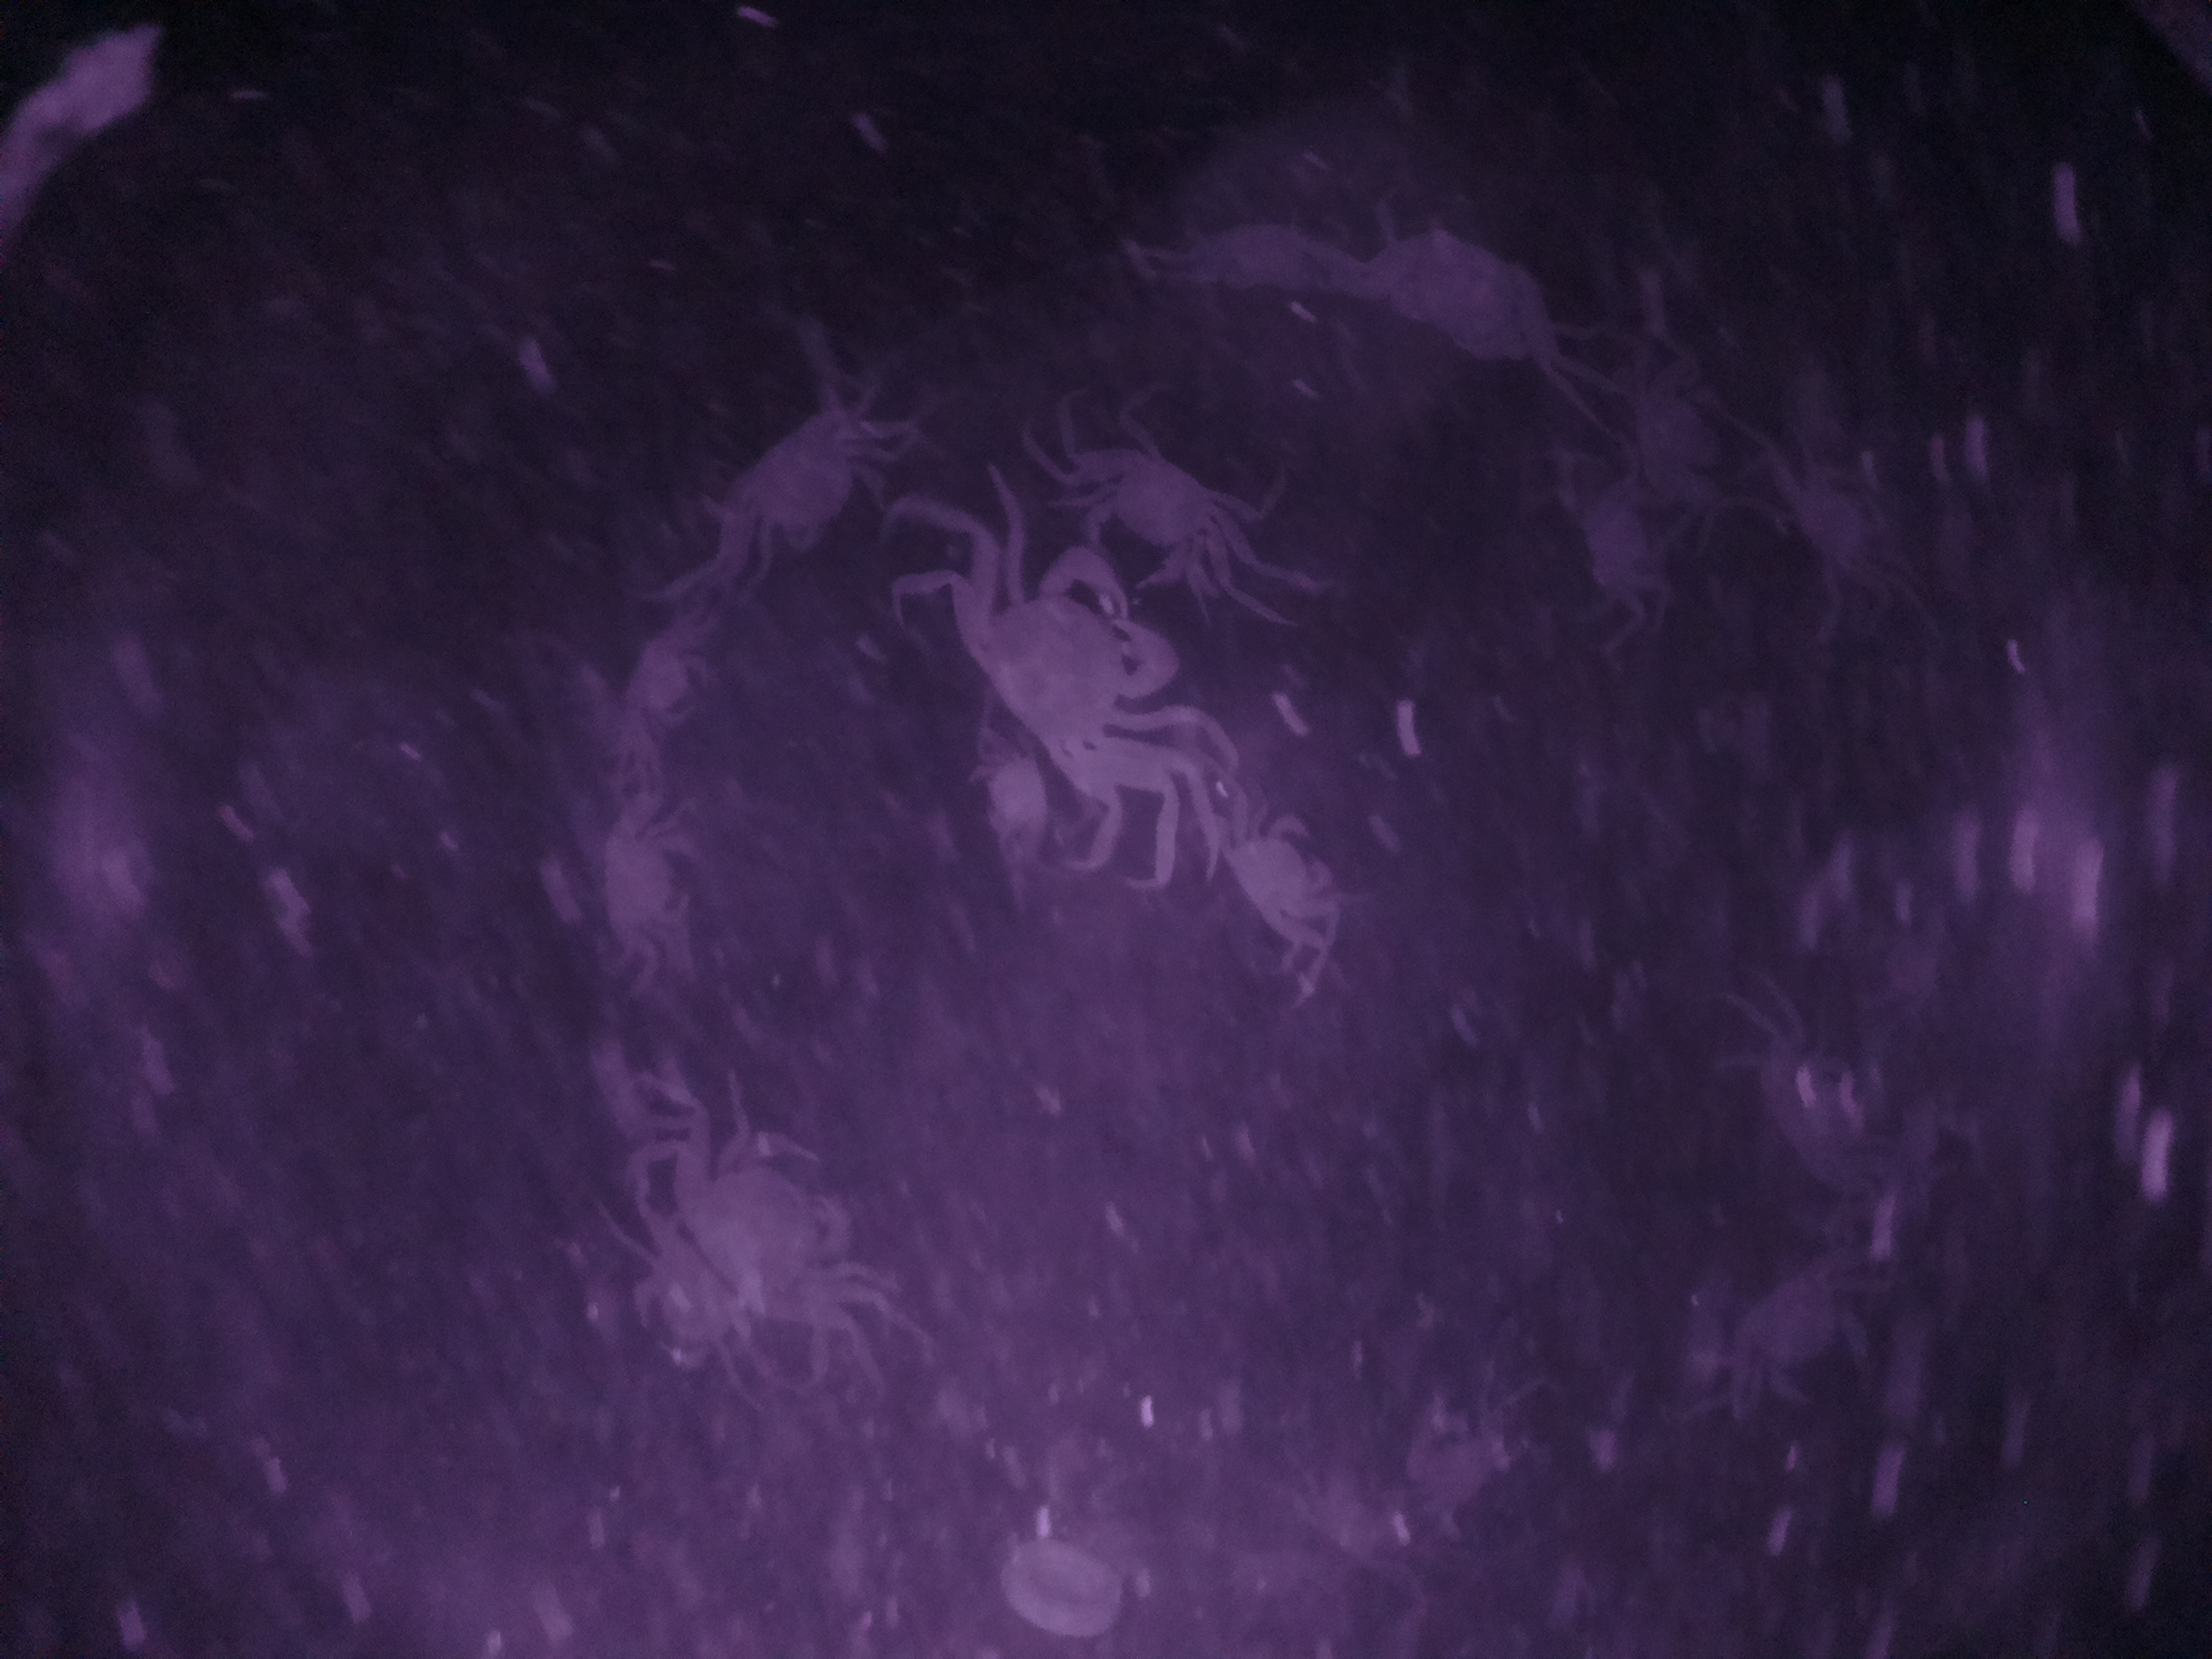Crab: (951, 530, 1200, 829), (1062, 416, 1261, 599), (592, 791, 721, 978), (1228, 800, 1345, 981)
